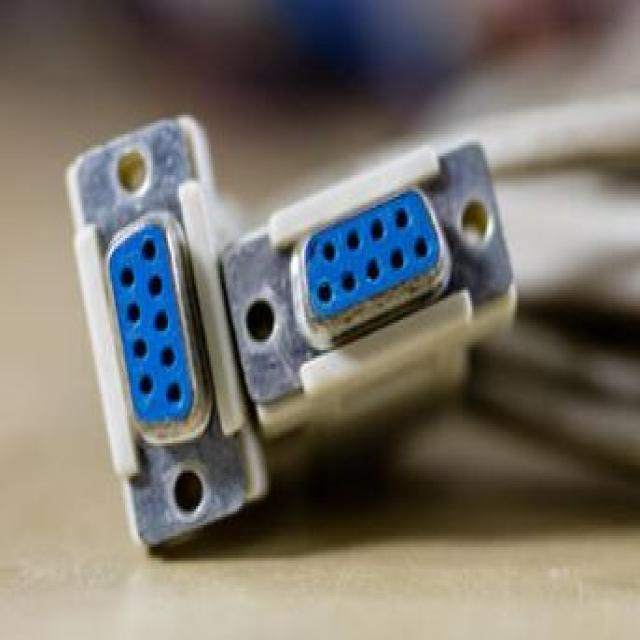electronic: (215, 130, 551, 496)
